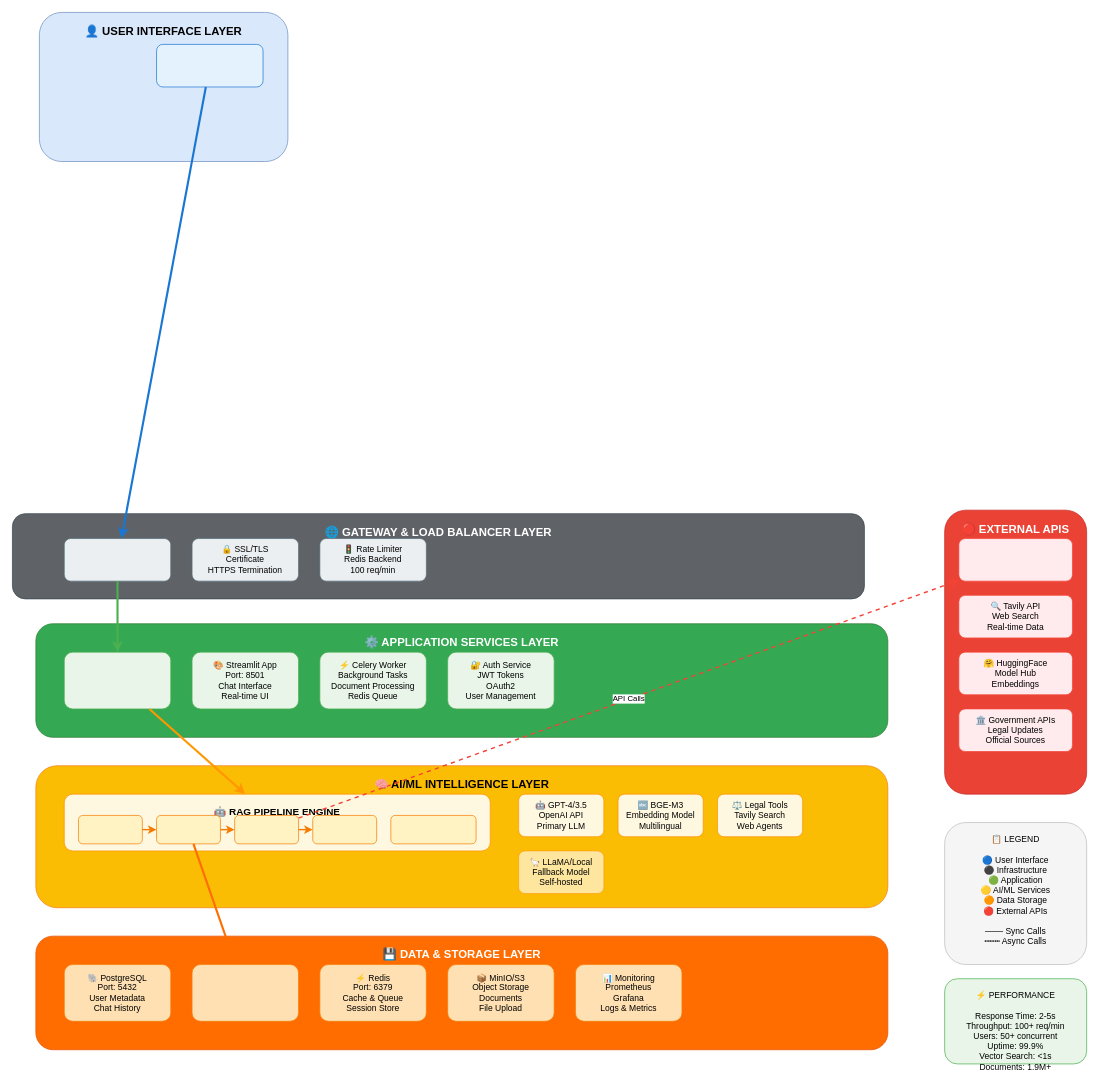
Image size: 1099x1085. Some labels were removed from this diagram. The centre of each missing label's shape, as x and y in pixels:
"⚖️ Nginx Load Balancer Port: 80, 443" belongs at pixel 117 559.
"🌐 Web Browser (Streamlit Interface)" belongs at pixel 209 65.
"🎯 Re-ranker Results Optimization" belongs at pixel 433 829.
"💬 Response Generator" belongs at pixel 344 829.
"📝 Query Rewriter" belongs at pixel 110 829.
"🔍 ChromaDB Port: 8001 Vector Storage 1.9M+ Documents" belongs at pixel 245 992.
"🔍 Vector Search" belongs at pixel 188 829.
"🚀 FastAPI Server Port: 8000 3x Replicas Async Processing" belongs at pixel 117 680.
"🤖 OpenAI API GPT Models Embeddings" belongs at pixel 1015 559.
"🧠 LLM Engine" belongs at pixel 266 829.
